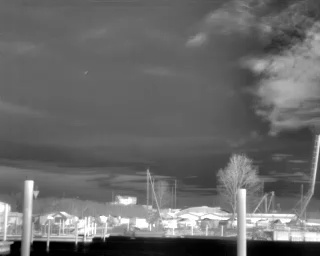BIRD: (82, 68, 89, 77)
